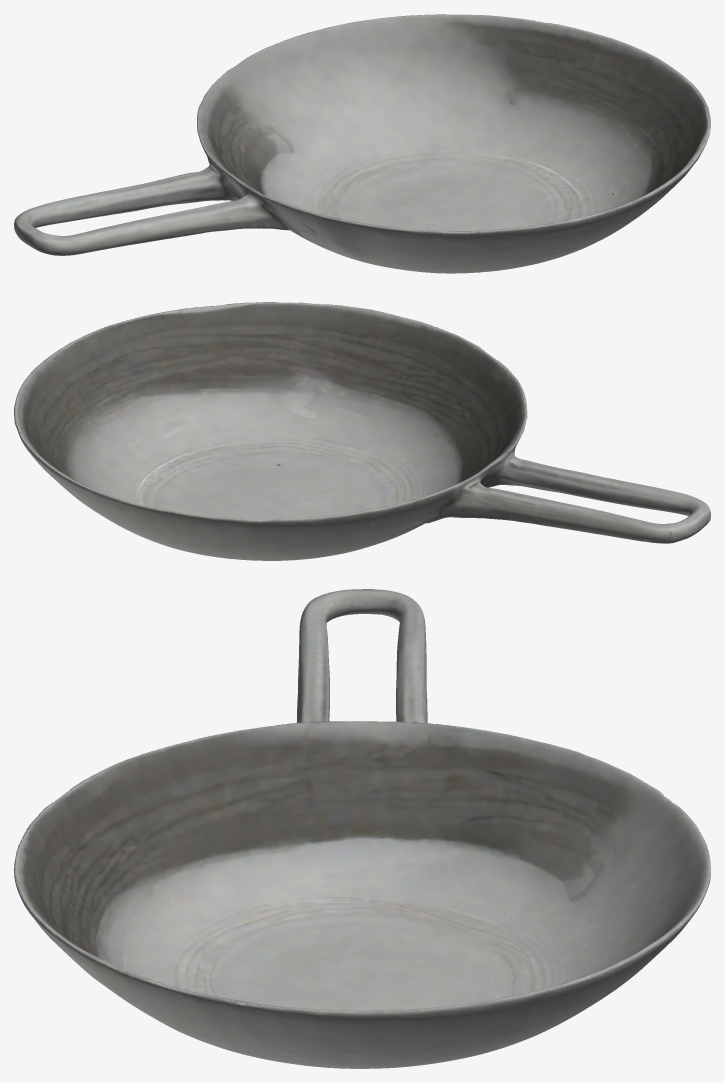
Rendered from Stainless_Steel_Pan_w_1215235448_texture.glb.
The picture shows the model from 3 angles, top to bottom: view 1: azimuth 30°, elevation 25°; view 2: azimuth 150°, elevation 25°; view 3: azimuth 270°, elevation 25°; orthographic projection. The views are drawn at different scales.
Bounding box in the file's own units: 2 × 0.2752 × 1.38.
Materials: 1 (1 with a texture image).
